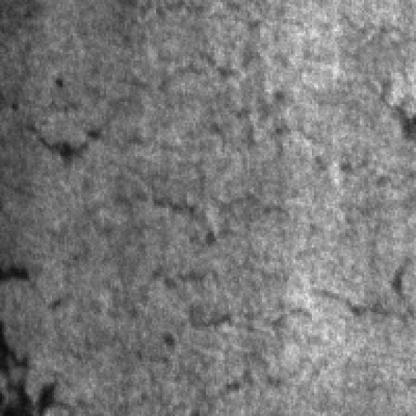crazing: (116, 48, 298, 237), (171, 272, 391, 396)
